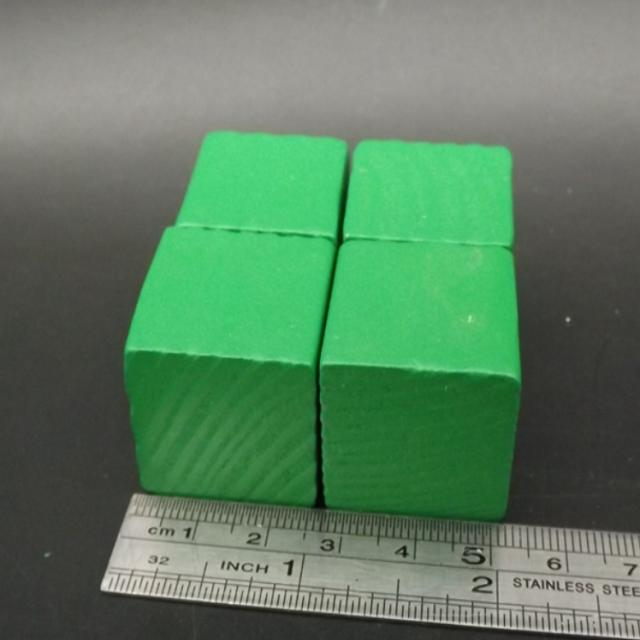green cube: (124, 227, 336, 509), (320, 243, 521, 524), (172, 131, 350, 248), (341, 140, 515, 251)
